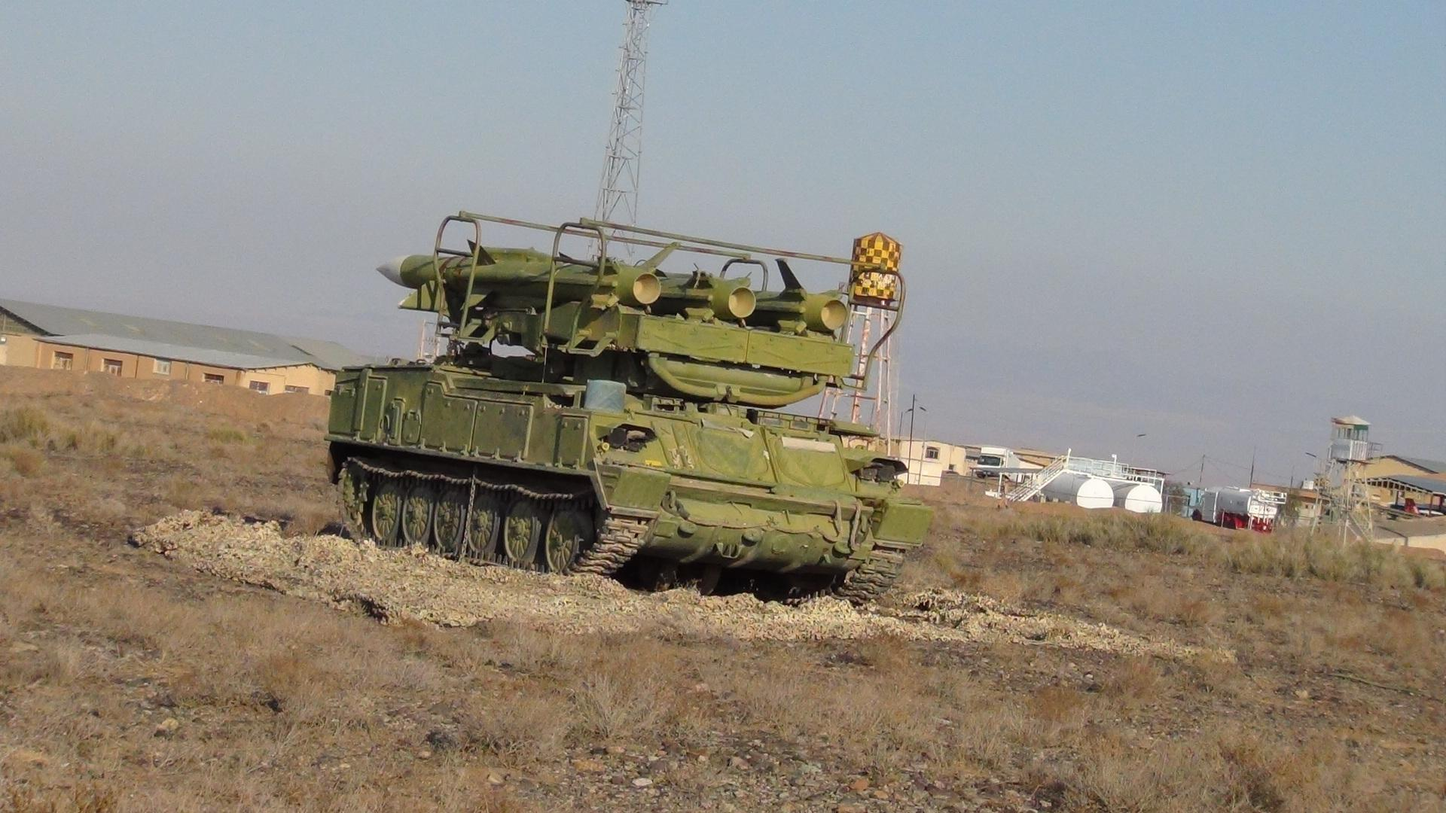armored_car: (329, 210, 996, 603)
